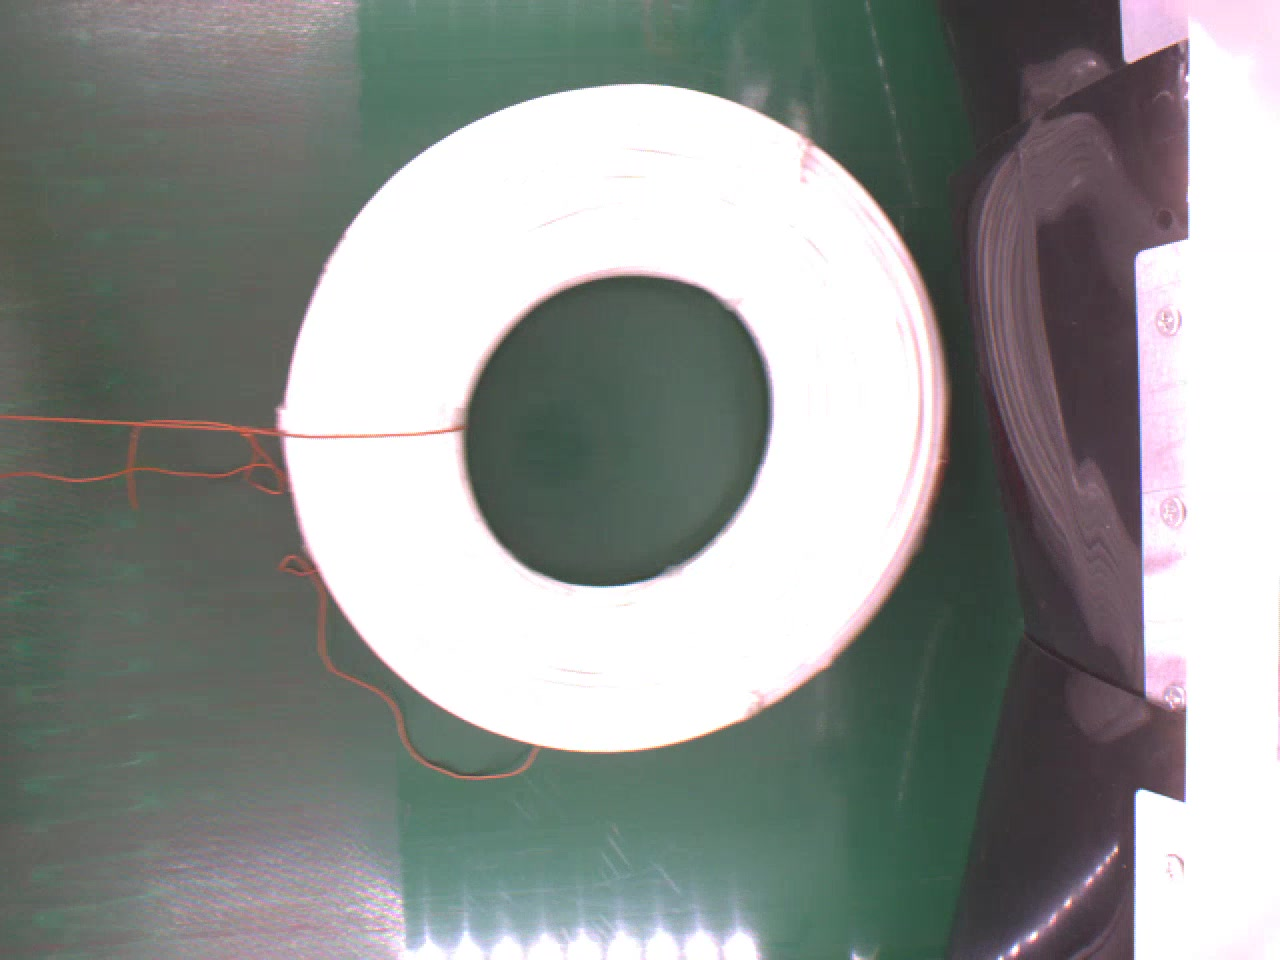white: (271, 78, 953, 743)
